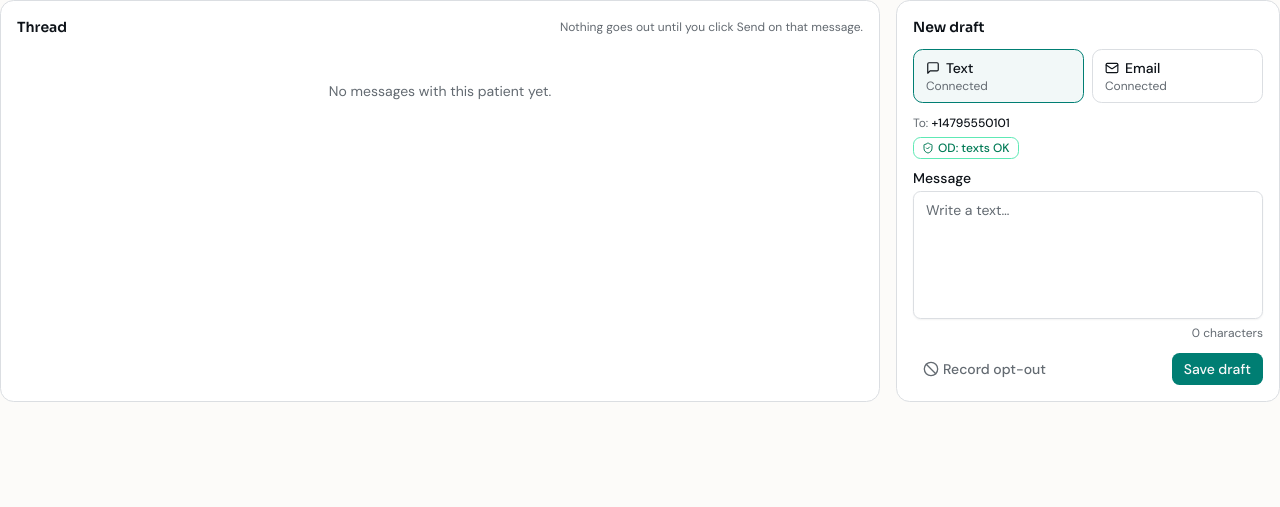
Test: the template picker reuses the template library › an empty library says so instead of an empty dropdown
Click the radio button labelled "Email Connected" at (1178, 76), box top-left (1092, 49), bottom-right (1263, 103)
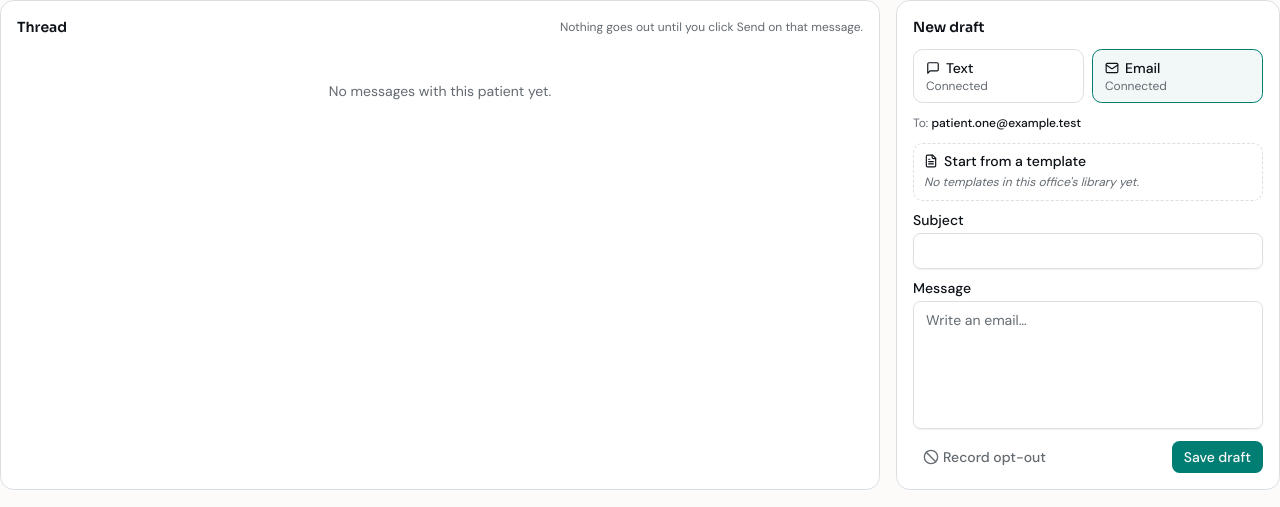
Check: the text "No templates in this office's library yet." is shown, box top-left (924, 174), bottom-right (1139, 190)
